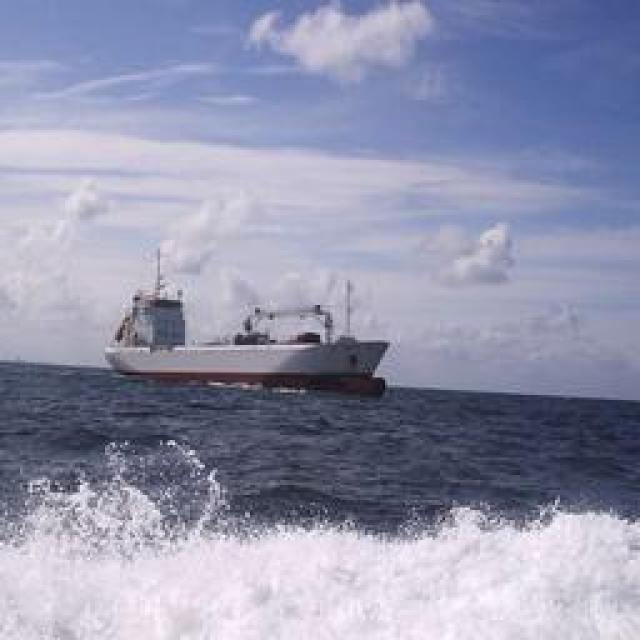CIV_Ship: (107, 268, 390, 390)
